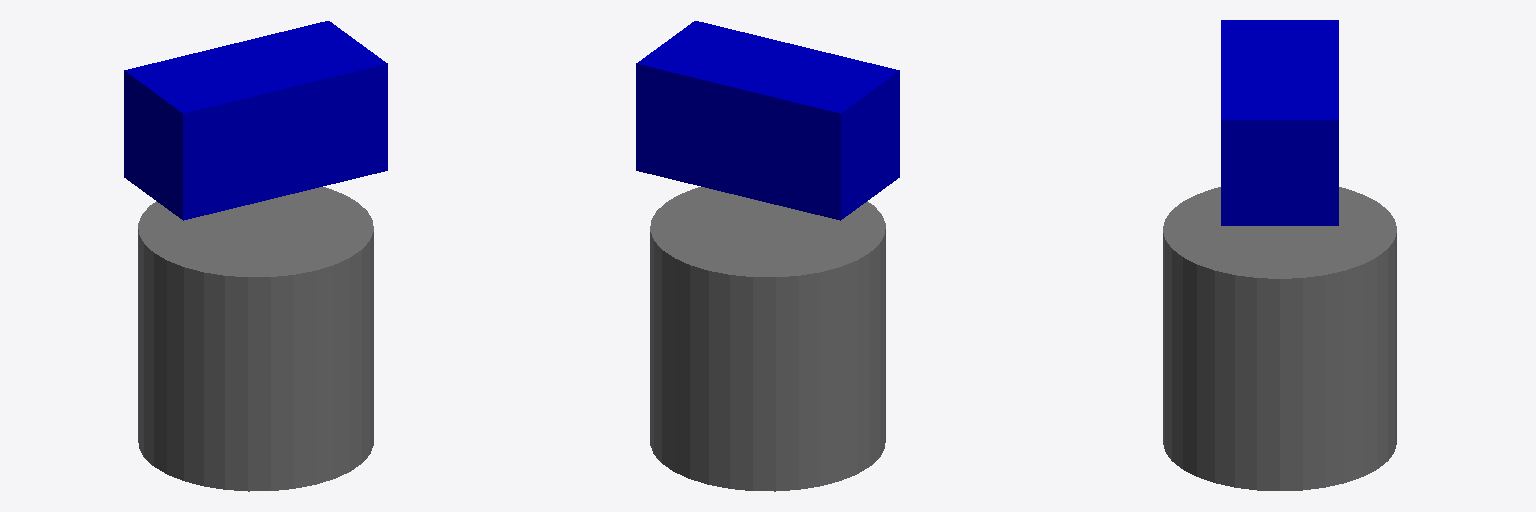
robot.urdf — widowxl:
<?xml version="1.0" ?>
<robot name="widowxl">
  <link name="base_link">
    <visual>
      <geometry>
        <cylinder length="0.1" radius="0.05"/>
      </geometry>
      <material name="Gray">
        <color rgba="0.5 0.5 0.5 1.0"/>
      </material>
    </visual>
  </link>

  <link name="shoulder_link">
    <visual>
      <geometry>
        <box size="0.1 0.05 0.05"/>
      </geometry>
      <material name="Blue">
        <color rgba="0.0 0.0 0.8 1.0"/>
      </material>
    </visual>
  </link>

  <joint name="waist" type="revolute">
    <parent link="base_link"/>
    <child link="shoulder_link"/>
    <origin xyz="0 0 0.1"/>
    <axis xyz="0 0 1"/>
    <limit effort="10" lower="-3.14" upper="3.14" velocity="1.0"/>
  </joint>
</robot>

--- Render facts (derived) ---
3 views of the same robot in one strip: view 1: azimuth 30°, elevation 25°; view 2: azimuth 150°, elevation 25°; view 3: azimuth 270°, elevation 25° (orthographic).
Model widowxl with 2 links and 1 joints (1 revolute), rooted at base_link, posed every joint at zero.
Links seen in each view (by area): view 1: base_link, shoulder_link; view 2: base_link, shoulder_link; view 3: base_link, shoulder_link.
Link boxes in pixels (box(x1,y1,x2,y2)): base_link: box(138, 187, 373, 491); shoulder_link: box(124, 21, 387, 220); base_link: box(650, 187, 885, 491); shoulder_link: box(636, 21, 899, 220); base_link: box(1163, 187, 1396, 490); shoulder_link: box(1221, 20, 1338, 225).
Size in the robot's own frame: 0.1 by 0.1 by 0.175 metres.
Geometry: primitives only (box / cylinder / sphere), no mesh files.
